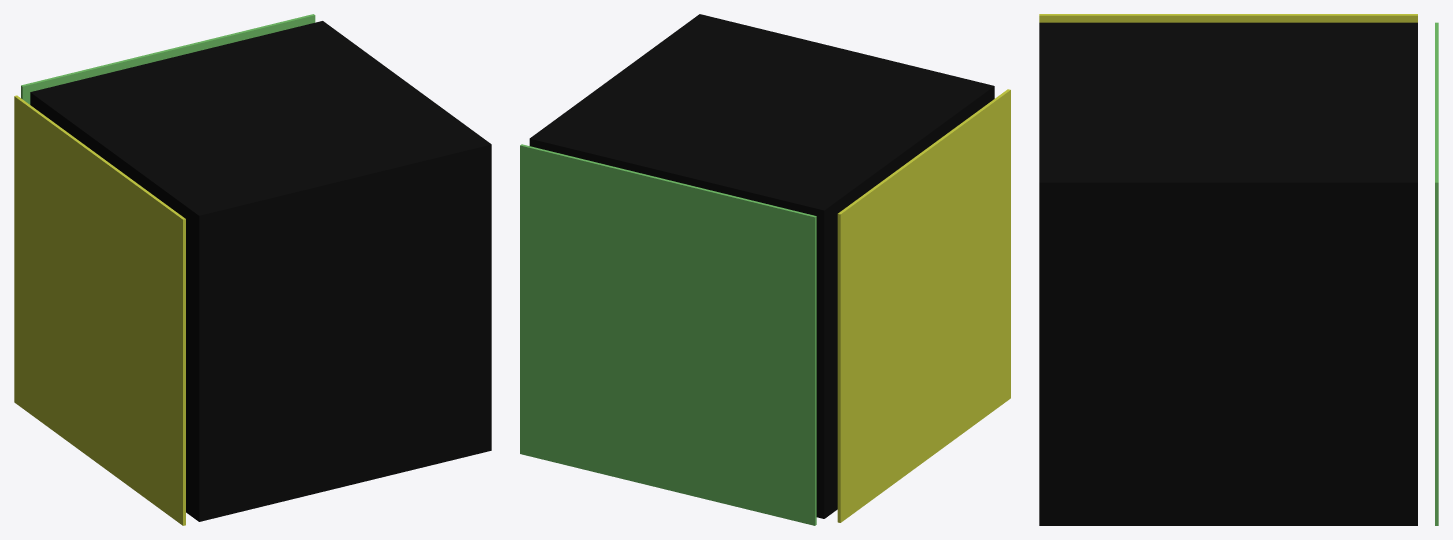
The picture shows the model from 3 angles, left to right: view 1: azimuth 30°, elevation 25°; view 2: azimuth 150°, elevation 25°; view 3: azimuth 270°, elevation 25°; orthographic projection. The views are drawn at different scales.
Visible parts, largest first — view 1: Cube, yellow-1, blue-3; view 2: blue-3, Cube, yellow-1; view 3: Cube, yellow-1, blue-3.
Boxes of the visible parts, box(x1,y1,x2,y2) form: Cube: box(30, 21, 491, 521); yellow-1: box(14, 95, 185, 525); blue-3: box(21, 14, 315, 104); blue-3: box(520, 144, 816, 525); Cube: box(529, 14, 994, 518); yellow-1: box(837, 89, 1010, 522); Cube: box(1039, 22, 1417, 525); yellow-1: box(1039, 14, 1417, 22); blue-3: box(1435, 22, 1438, 525).
Size of the model in its own units: 2.11 by 2 by 2.11.
